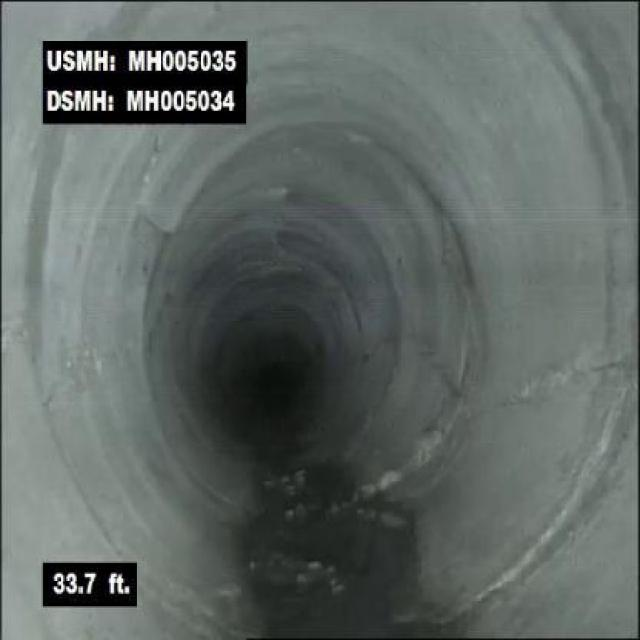Crack: (486, 352, 628, 411), (46, 331, 137, 392), (123, 126, 166, 239)
Debris: (240, 542, 349, 606)
